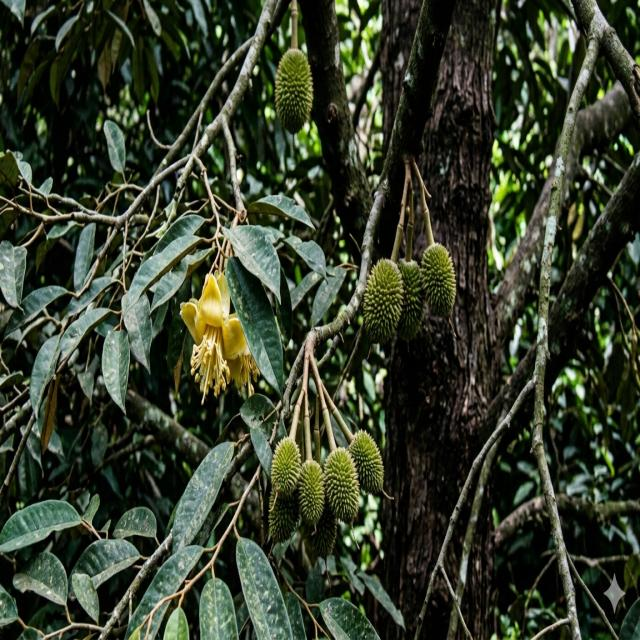immature: (364, 258, 404, 342), (274, 46, 313, 132), (419, 241, 457, 317), (322, 446, 358, 523), (396, 259, 425, 338), (350, 428, 384, 495), (270, 436, 303, 501), (268, 478, 299, 544), (296, 458, 324, 525), (309, 509, 338, 560)
